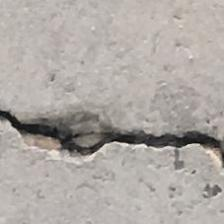Crack: (0, 94, 224, 212)
